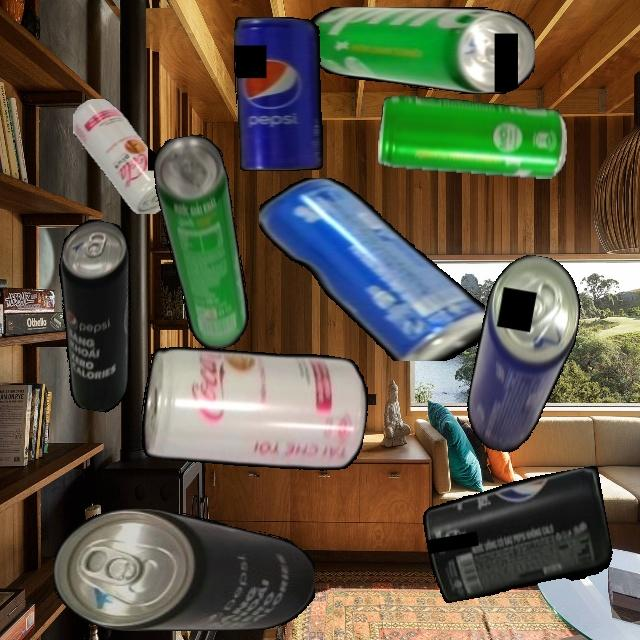debris: (259, 177, 485, 361), (134, 326, 376, 492), (54, 507, 315, 631), (419, 466, 616, 604), (461, 249, 588, 460), (148, 131, 257, 354), (36, 216, 154, 415), (308, 7, 535, 94), (377, 94, 567, 179), (234, 16, 323, 171), (73, 98, 177, 214)
